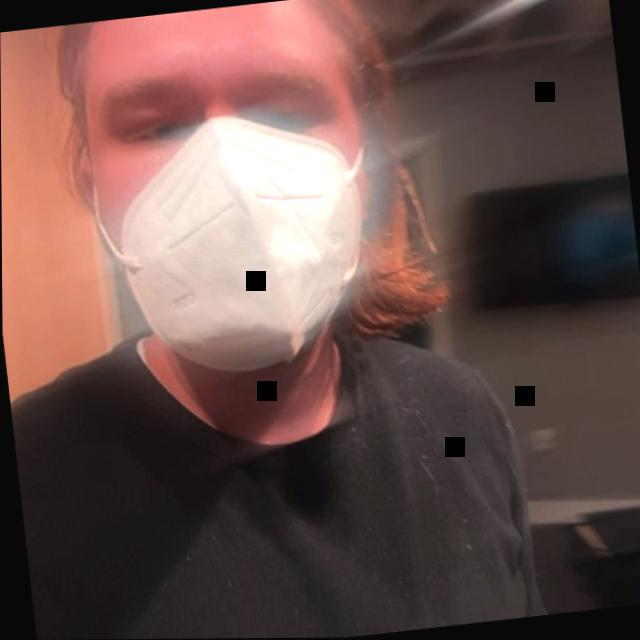Mask: (40, 0, 453, 405)
